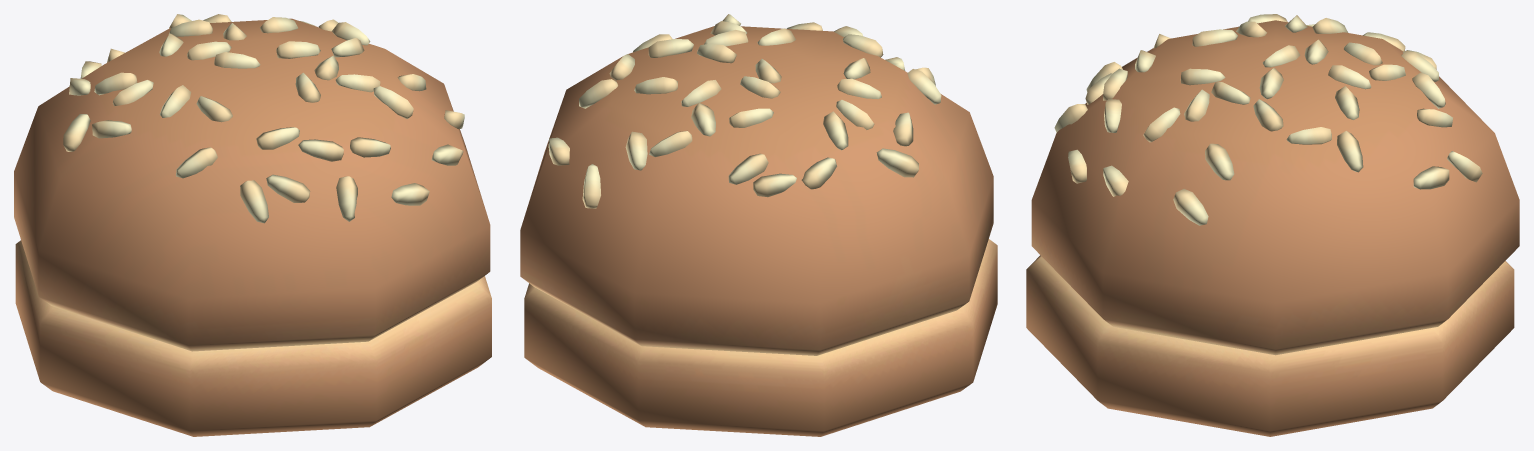
File: Bun.fbx
The picture shows the model from 3 angles, left to right: view 1: azimuth 30°, elevation 25°; view 2: azimuth 150°, elevation 25°; view 3: azimuth 270°, elevation 25°; orthographic projection.
Visible parts, largest first — view 1: Bun; view 2: Bun; view 3: Bun.
Part boxes in pixels (box(x1,y1,x2,y2)): Bun: box(14, 14, 491, 436); Bun: box(520, 14, 997, 436); Bun: box(1026, 14, 1519, 436).
Size of the model in its own units: 190 by 124 by 192.
1 material, 1 textured.
